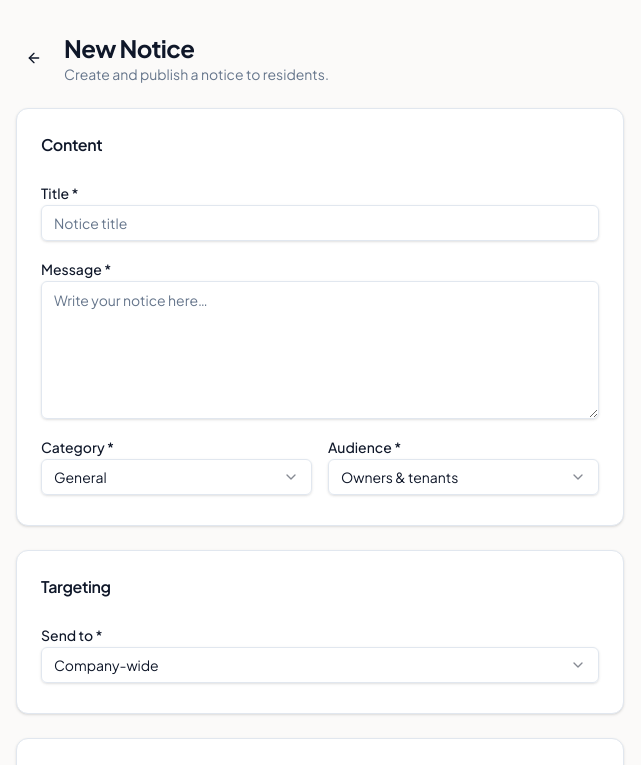
Test case: Suite 38-05: Scheduled-date validation (Malta timezone) › shows DST gap error for a nonexistent Malta time (spring-forward 2024)
# Fill required fields
In the field with placeholder "Notice title": (320, 223) [41,205,599,241], type "Test Notice"
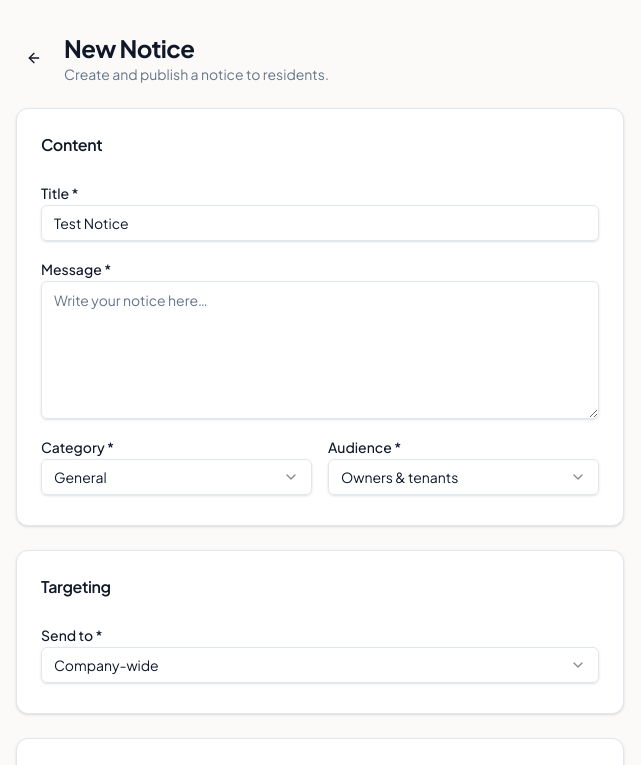
In the text box with placeholder "Write your notice here…": (320, 350) [41,281,599,419], type "Body text"
(page scrolled)
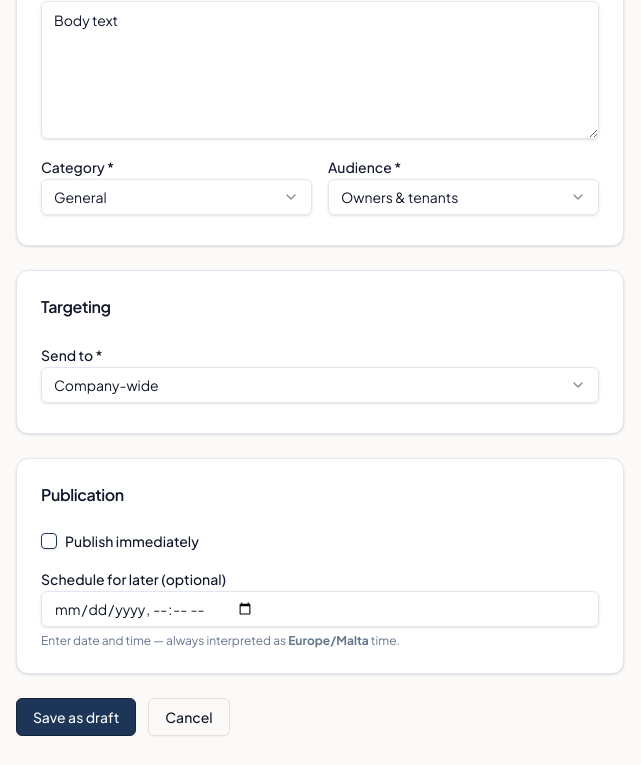
# Enter a time in the 2024 spring-forward gap (02:30 Malta doesn't exist on 31 March)
In the field labelled "Schedule for later (optional)": (320, 609) [41,591,599,627], type "2024-03-31T02:30"
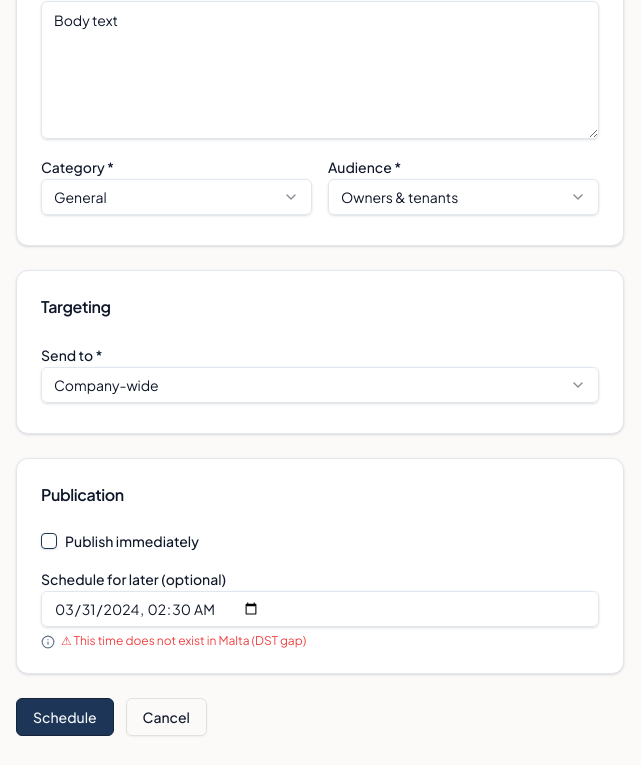
Click the button "Schedule": (65, 717) [16,698,114,736]
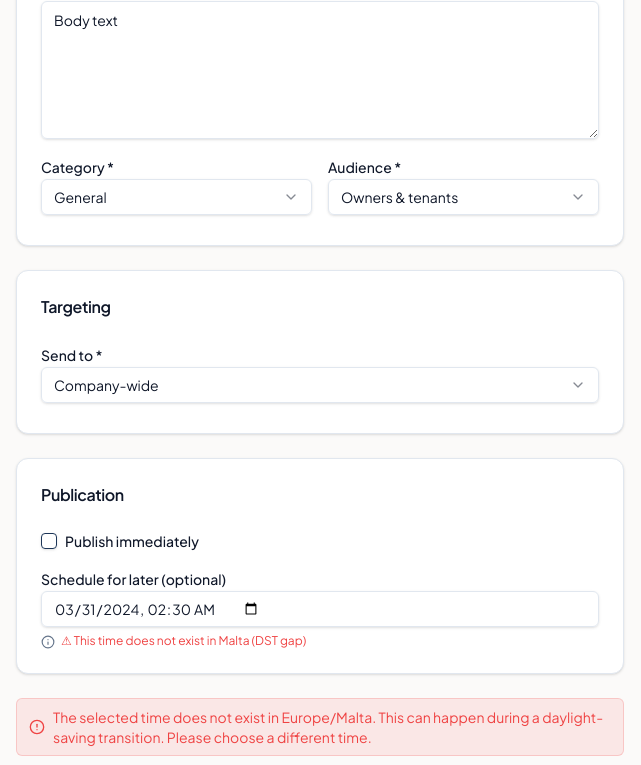
Now the text "The selected time does not exist in Europe/Malta" is shown, box [53,708,603,746]
